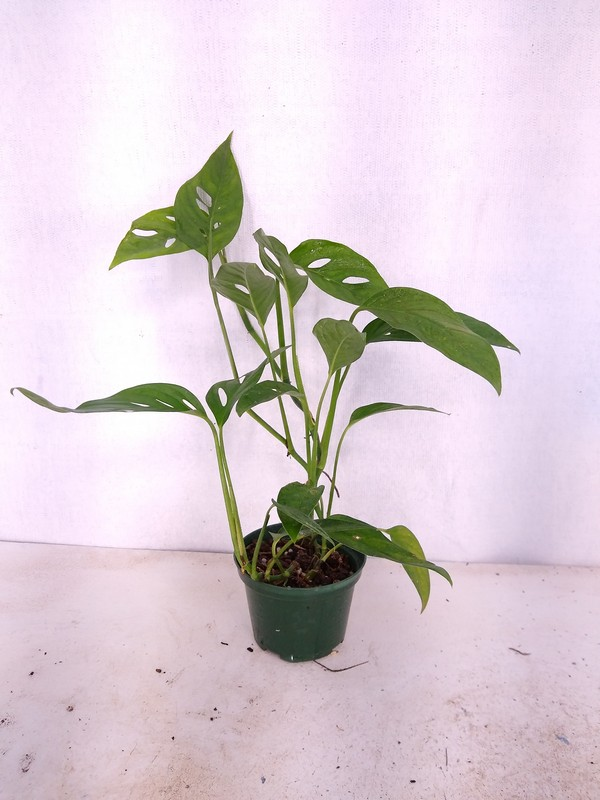plant: (10, 132, 523, 618)
pot: (233, 520, 367, 666)
